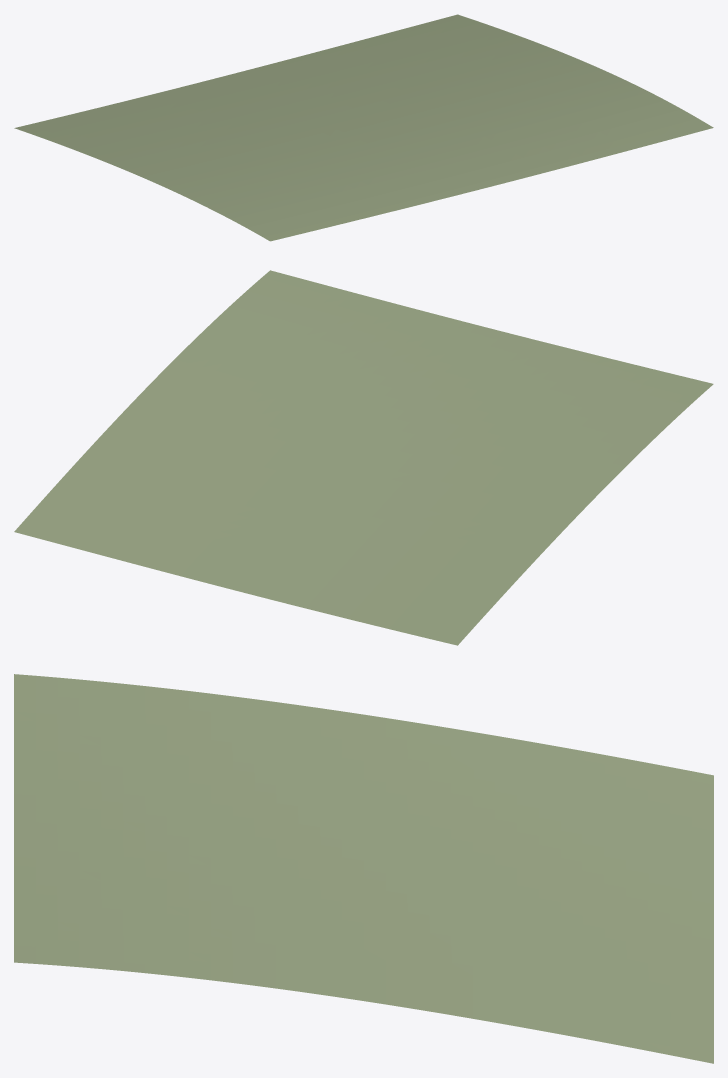
The model's file is expanse-28-6.glb.
The picture shows the model from 3 angles, top to bottom: view 1: azimuth 30°, elevation 25°; view 2: azimuth 150°, elevation 25°; view 3: azimuth 270°, elevation 25°; orthographic projection. The views are drawn at different scales.
Visible parts, largest first — view 1: expanse-28-6; view 2: expanse-28-6; view 3: expanse-28-6.
Boxes of the visible parts, x1=… form: expanse-28-6: x1=14, y1=14, x2=713, y2=241; expanse-28-6: x1=14, y1=270, x2=713, y2=645; expanse-28-6: x1=14, y1=674, x2=713, y2=1063.
Size of the model in its own units: 256 by 43.98 by 256.
